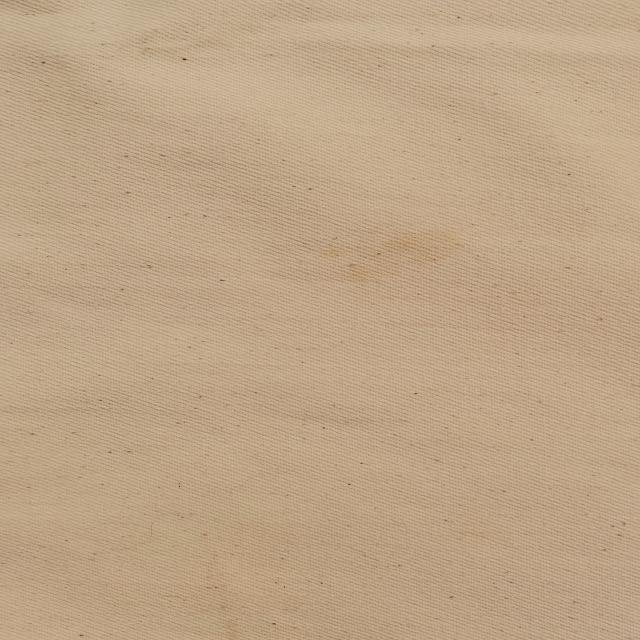taaaches: (318, 219, 458, 284)
